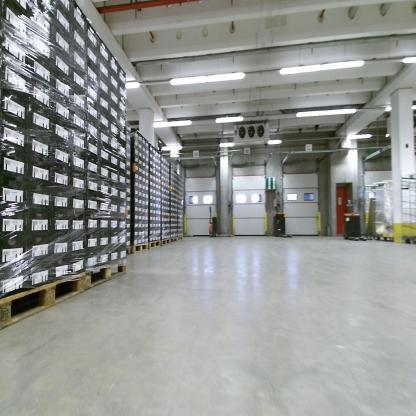pallets: (0, 262, 128, 327), (127, 234, 182, 255)
